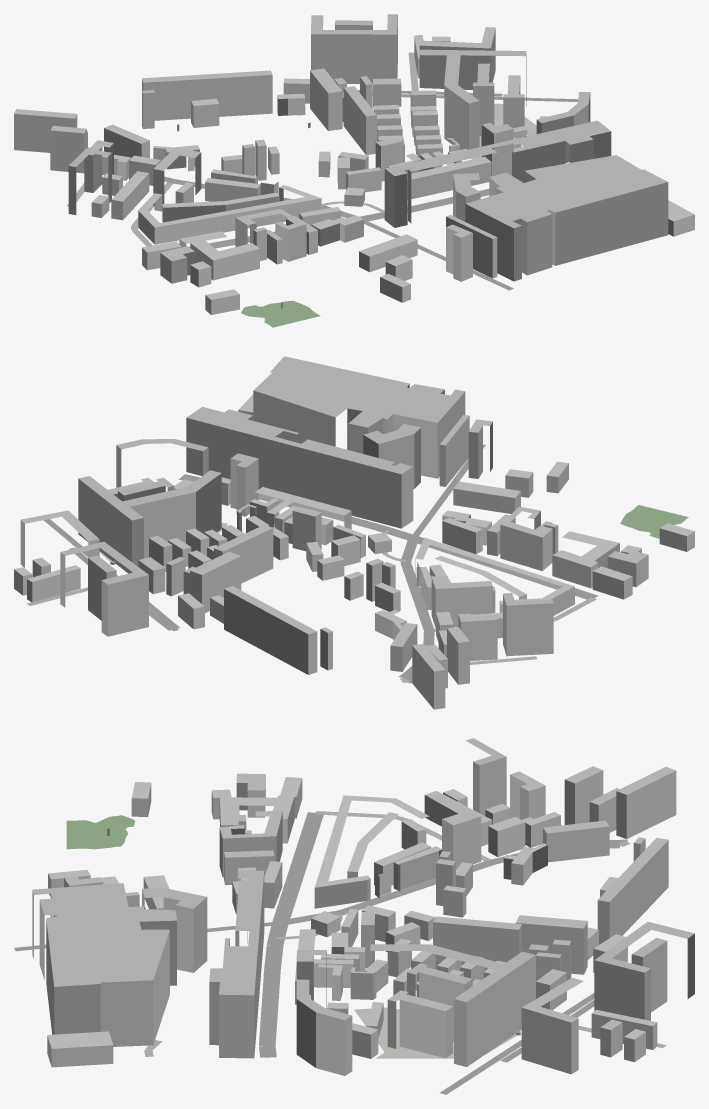
The picture shows the model from 3 angles, top to bottom: view 1: azimuth 30°, elevation 25°; view 2: azimuth 150°, elevation 25°; view 3: azimuth 270°, elevation 25°; orthographic projection. The views are drawn at different scales.
Bounding box in the file's own units: 591 × 61.96 × 570.
